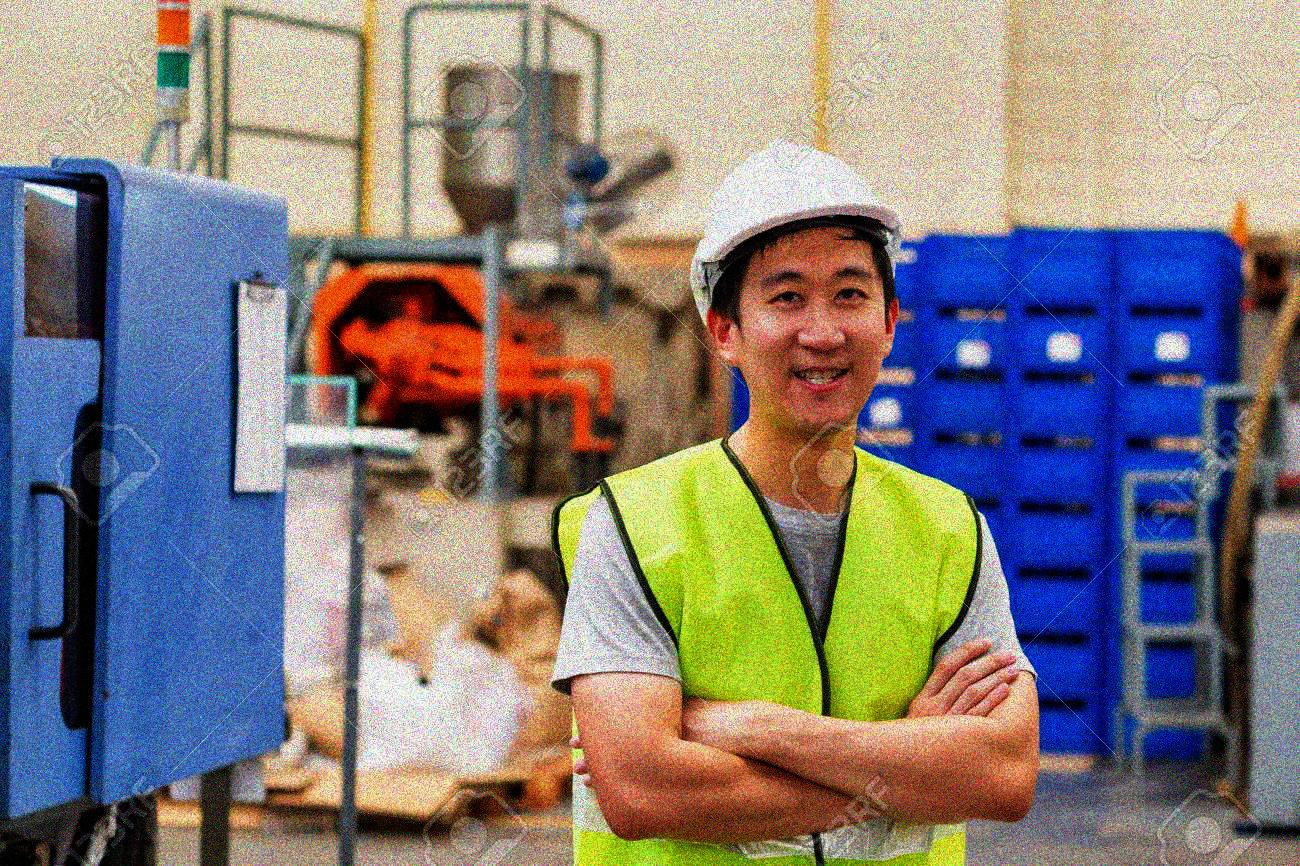helmet: (686, 140, 899, 438)
